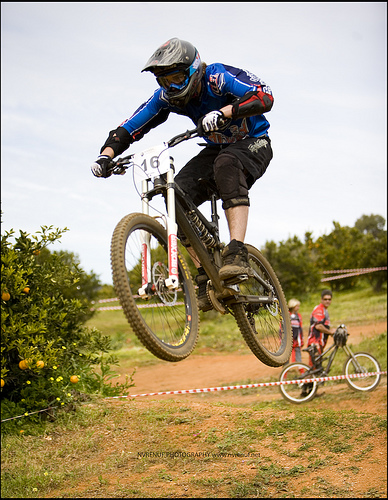helmet: (142, 39, 204, 97)
